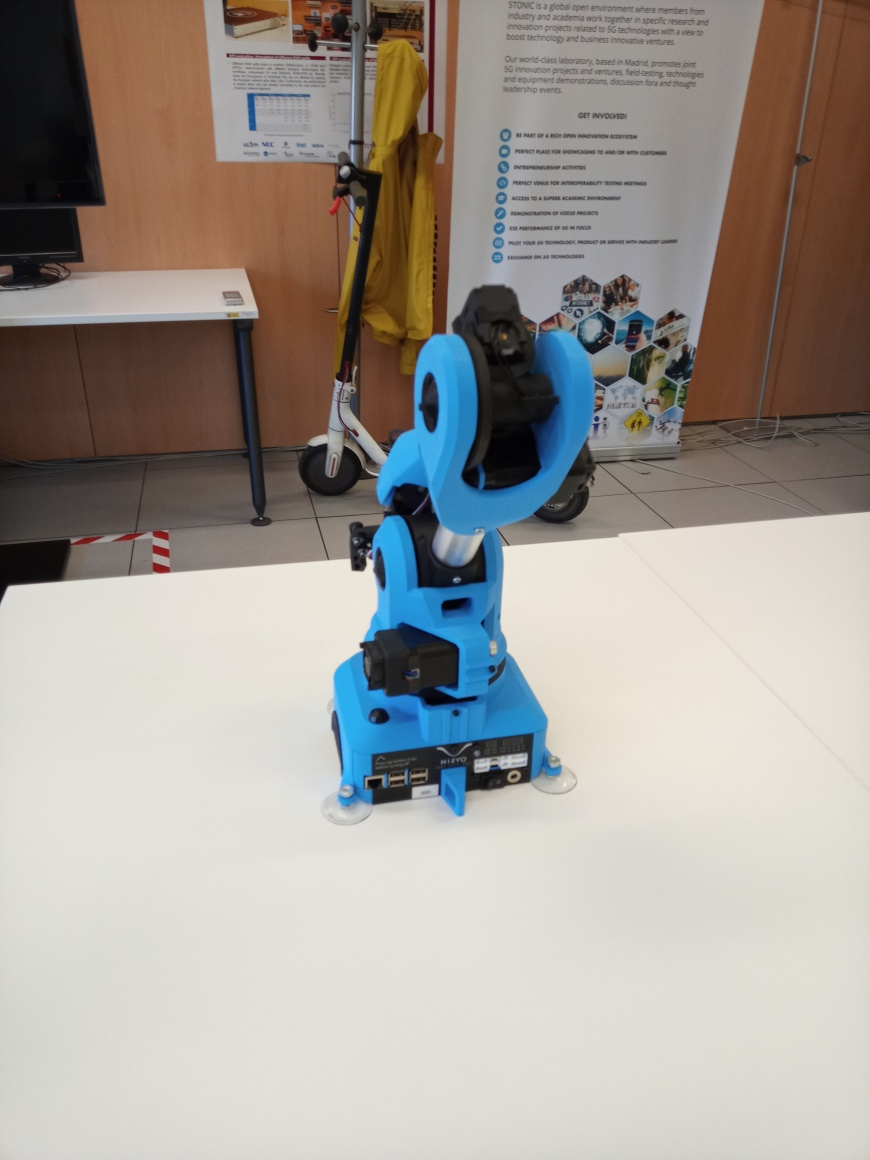robot: (321, 281, 596, 826)
